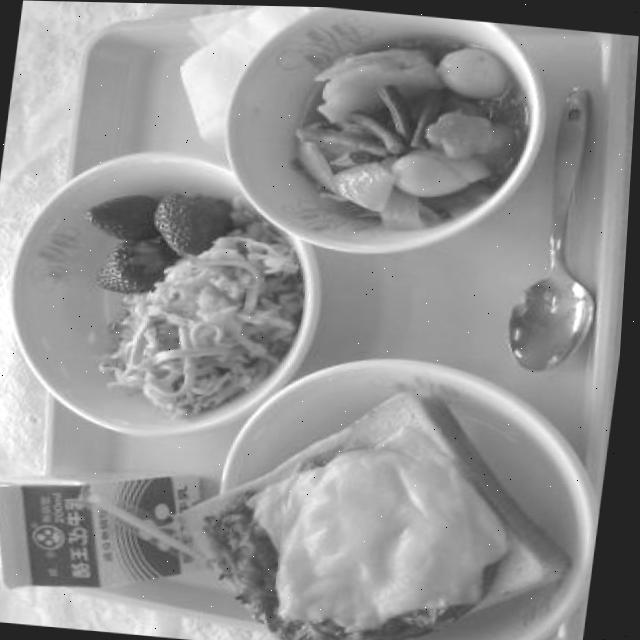面包点心: (147, 351, 594, 640)
